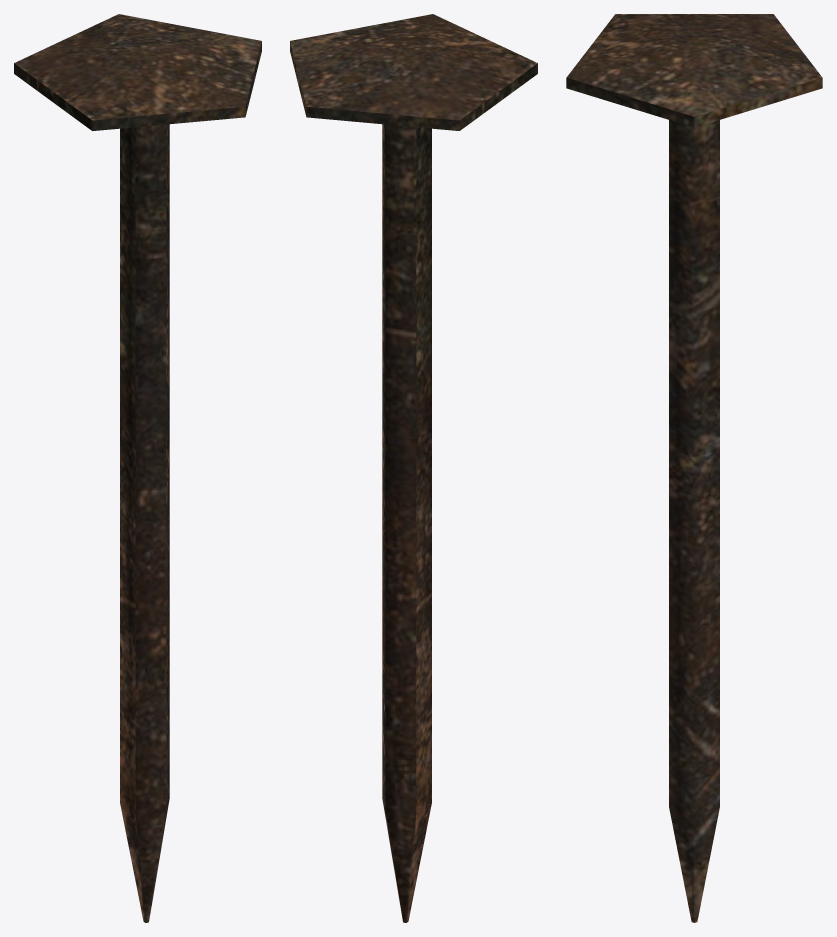
The model's file is Nail1.FBX.
The picture shows the model from 3 angles, left to right: view 1: azimuth 30°, elevation 25°; view 2: azimuth 150°, elevation 25°; view 3: azimuth 270°, elevation 25°; orthographic projection.
Visible parts, largest first — view 1: Nail1; view 2: Nail1; view 3: Nail1.
Boxes of the visible parts, x1,y1,x2,y2 form: Nail1: (14,14,261,922); Nail1: (290,14,537,922); Nail1: (566,14,822,922).
Size of the model in its own units: 5.34 by 21.19 by 5.62.
